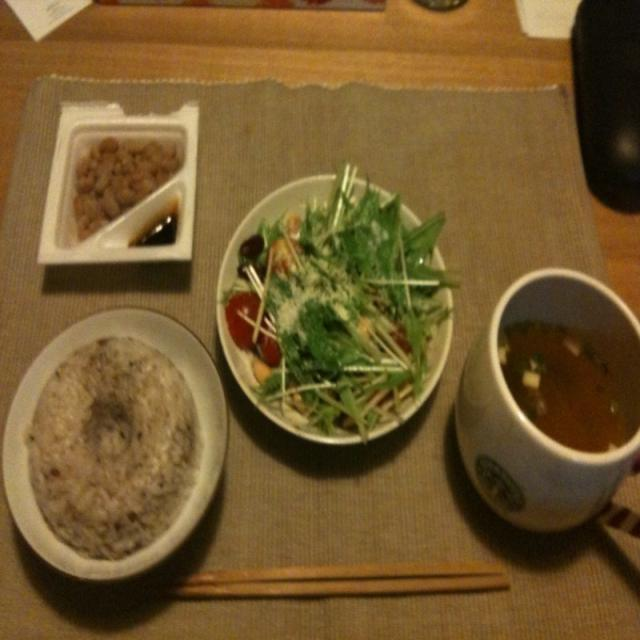Green Salad: (218, 179, 456, 451)
